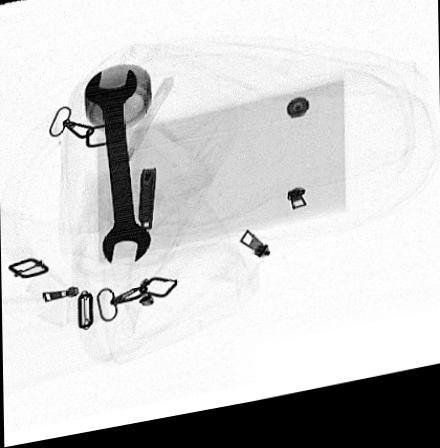Wrench: (81, 70, 152, 270)
